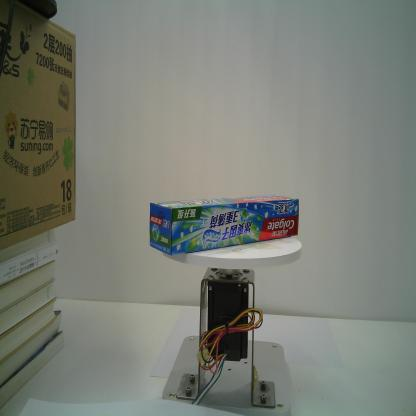Personal Hygiene: (148, 195, 300, 258)
